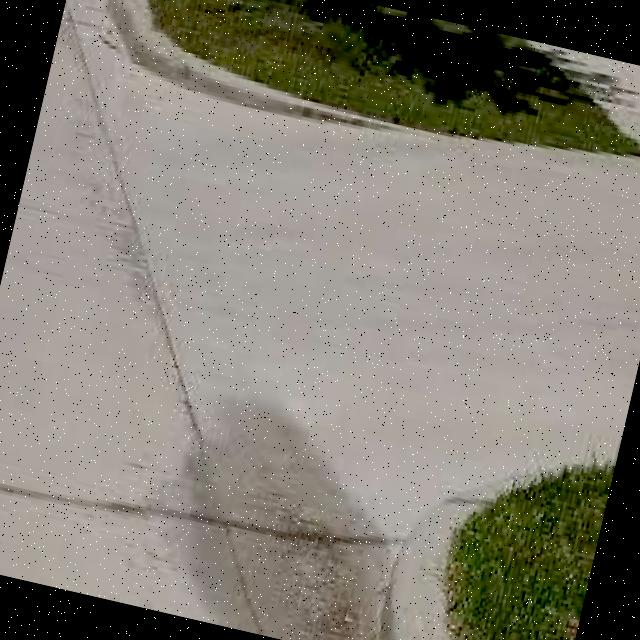curb: (111, 1, 306, 108), (380, 494, 478, 640)
